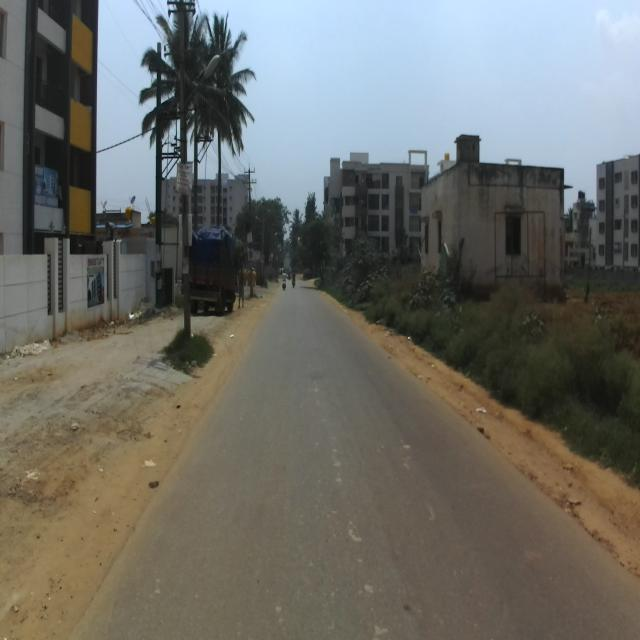electric pole ahead at: (162, 0, 207, 348)
